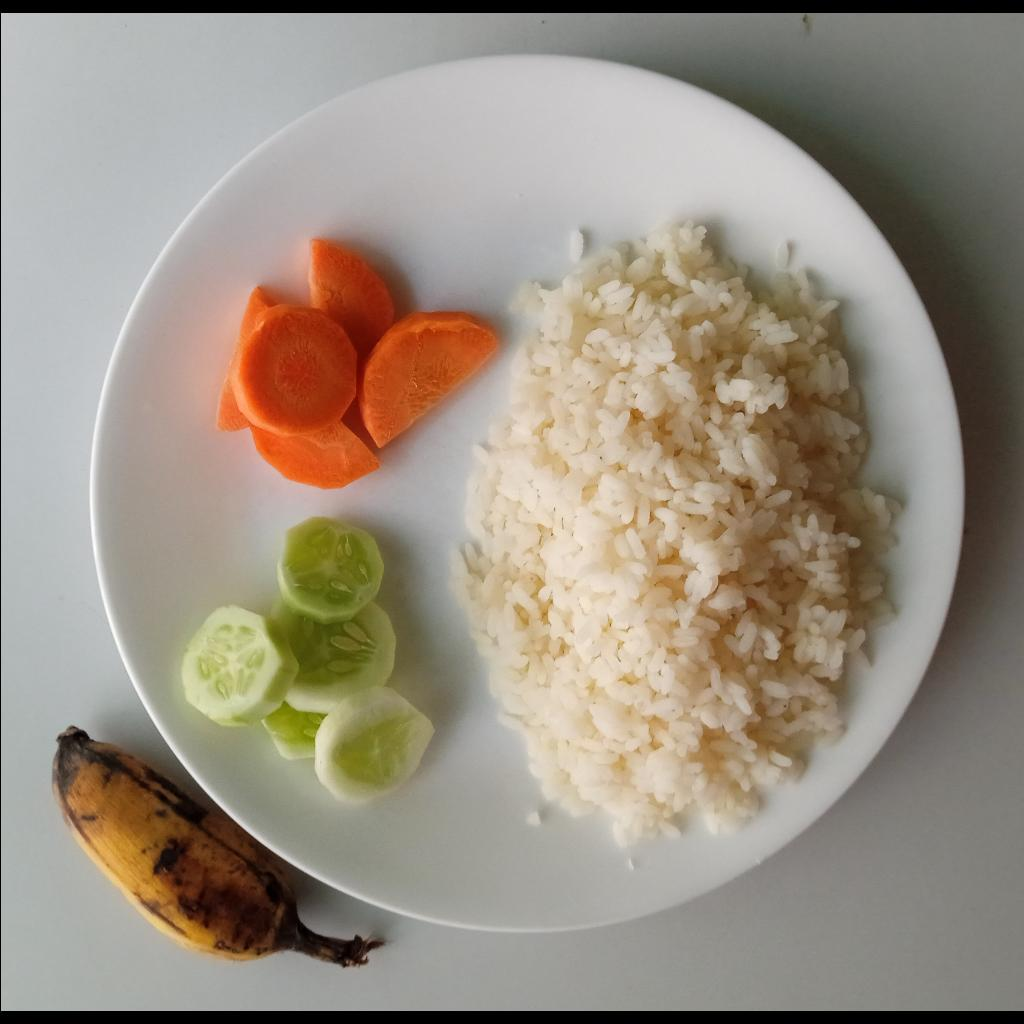banana: (50, 724, 388, 969)
carrot: (214, 238, 499, 491)
cucumber: (179, 517, 435, 803)
rice: (450, 226, 903, 846)
